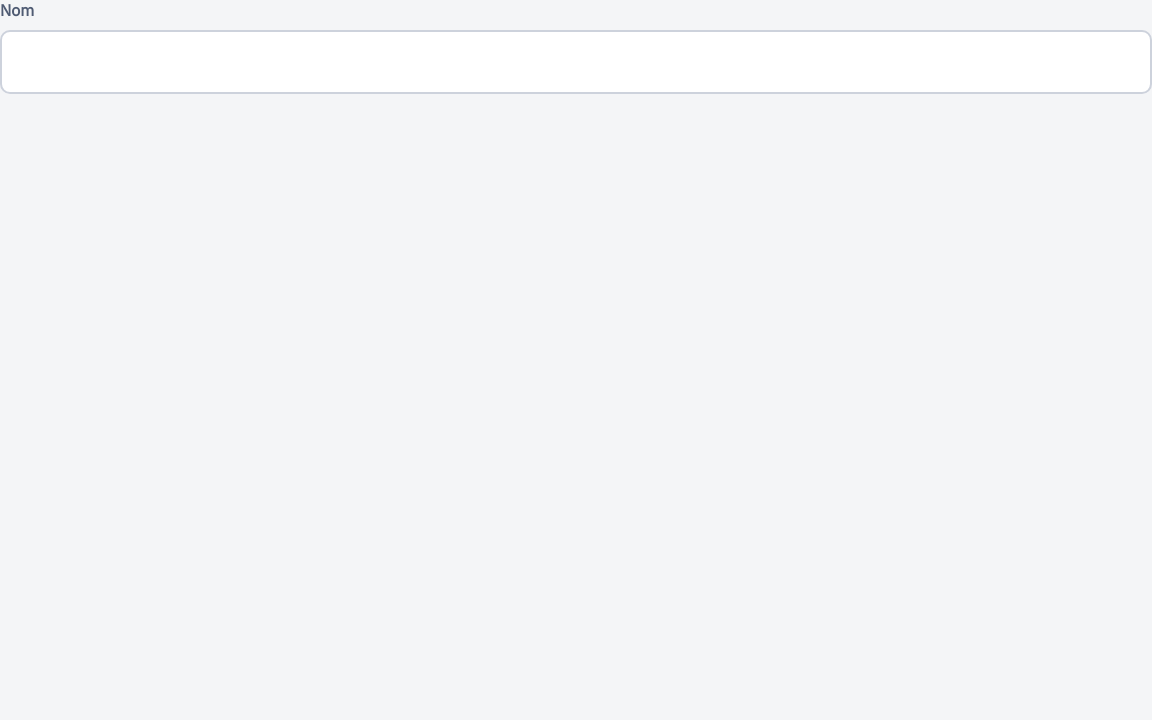
Test: TextField at the till › shows a keypad for a numeric field
The image size is (1152, 720).
Focus the field labelled "Nom" at (576, 62), box x1=20 y1=34 x2=1132 y2=90
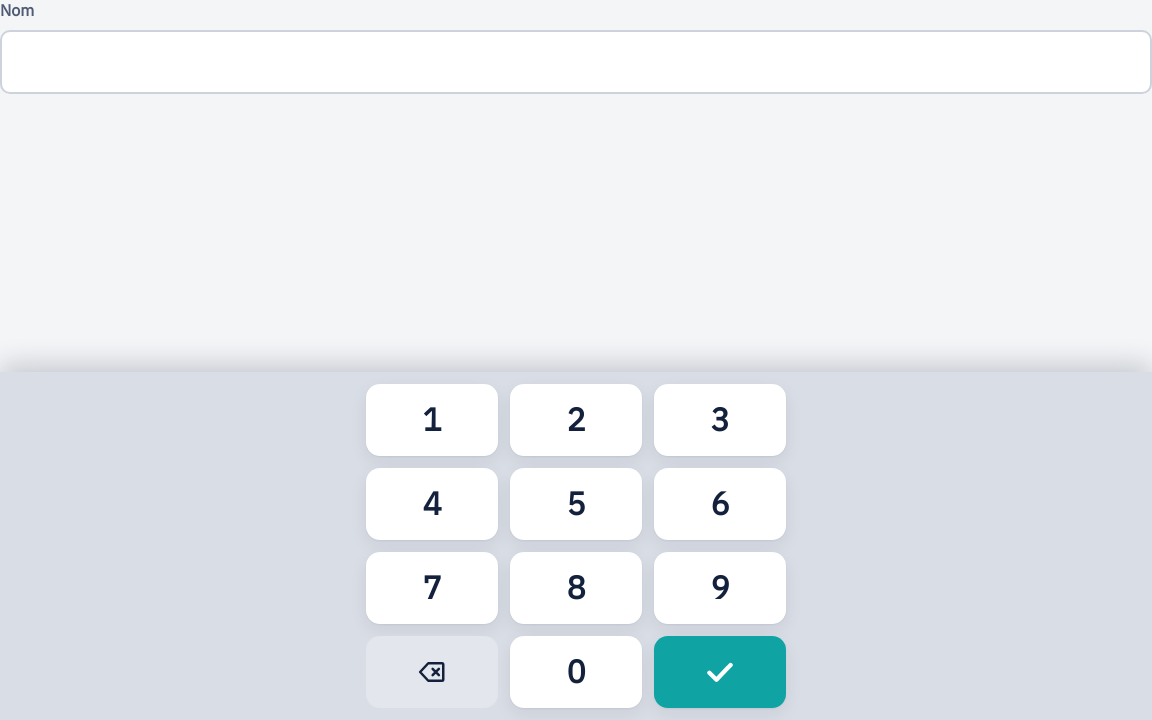
Click the button "4" at (432, 504), box x1=366 y1=468 x2=498 y2=540
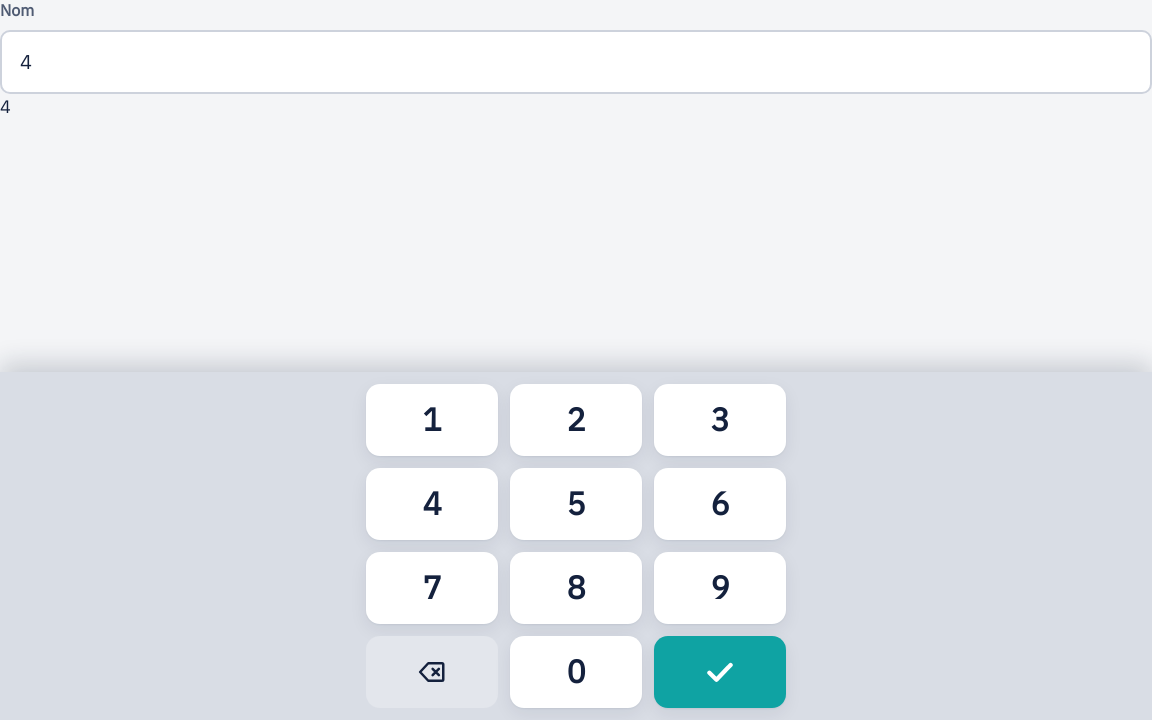
Click the button "2" at (576, 420), box x1=510 y1=384 x2=642 y2=456
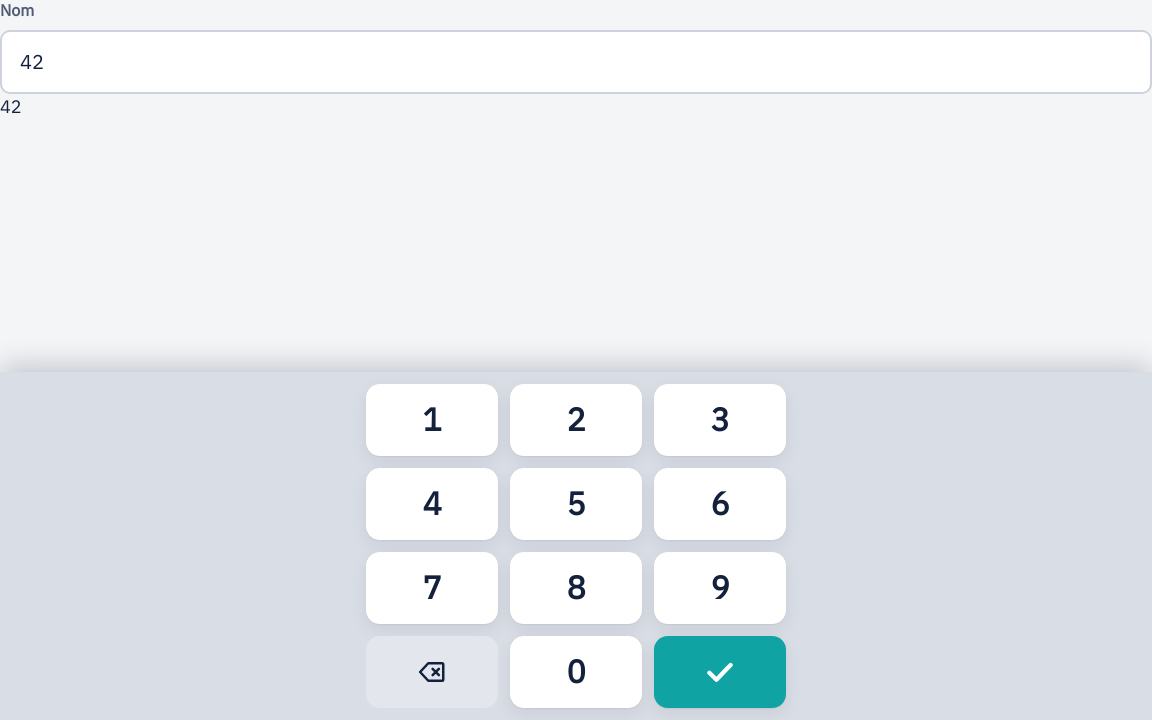
Check: the text with test id "value" reads "42", box x1=0 y1=93 x2=22 y2=120
